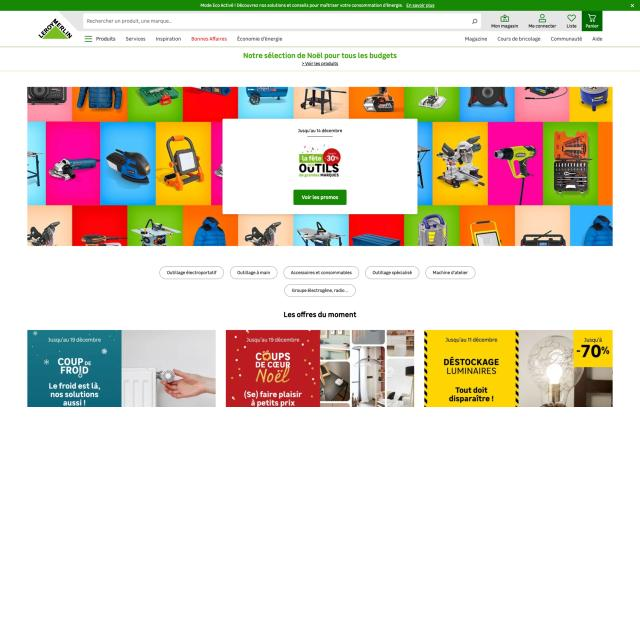CheckBox: (282, 265, 360, 280), (158, 266, 224, 280), (284, 284, 357, 296), (293, 189, 346, 205), (365, 266, 420, 280), (425, 265, 476, 280), (229, 265, 278, 280), (583, 11, 602, 32), (300, 60, 340, 68)
CheckedTextView: (83, 13, 482, 29)
ProgressBar: (0, 0, 640, 11)
bag: (0, 0, 640, 47)
breadcrumbs: (282, 310, 358, 319)
card: (27, 86, 613, 246)
carousel: (499, 13, 511, 24), (538, 14, 548, 24), (588, 12, 598, 22), (566, 14, 576, 22), (471, 17, 478, 25)
copy: (225, 329, 415, 408), (27, 330, 215, 407)
data feed: (290, 269, 352, 276), (166, 269, 218, 276), (292, 288, 349, 294), (300, 194, 339, 201), (372, 270, 414, 276), (528, 22, 557, 30), (432, 270, 470, 276), (237, 269, 270, 275), (491, 22, 519, 29), (585, 23, 600, 29), (566, 23, 578, 29)
date picker: (36, 17, 74, 41)
decoration: (94, 35, 286, 43), (464, 34, 603, 42), (84, 34, 94, 44)
footer: (86, 17, 172, 25)
